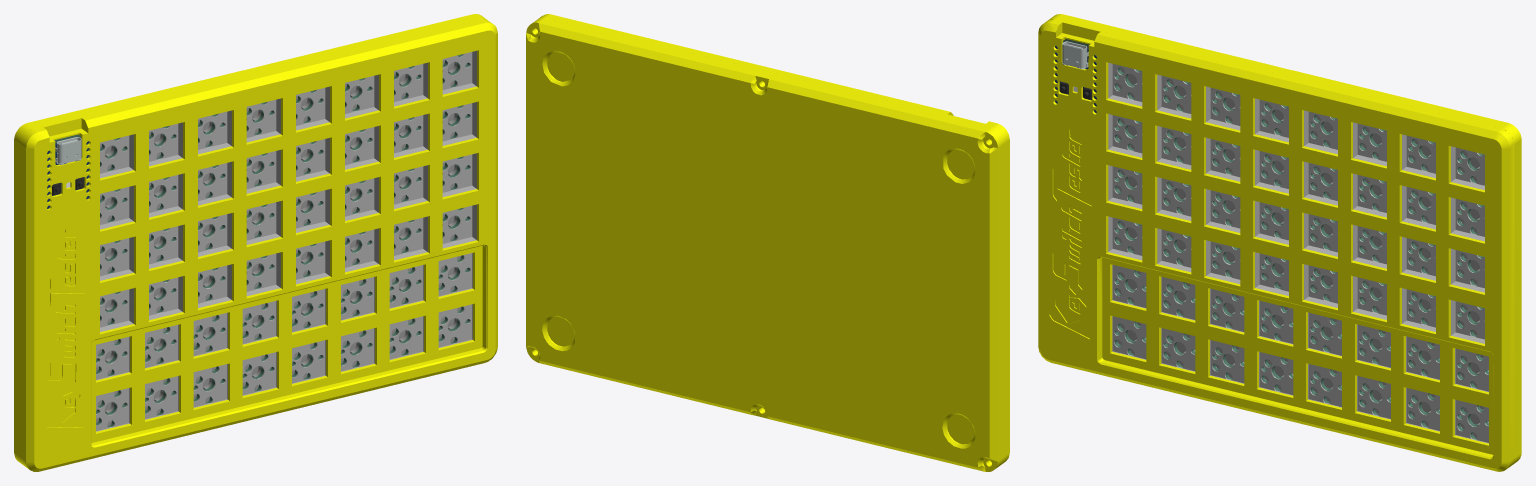
Rendered from tester_mx.glb.
3 renders of one model, left to right at view 1: azimuth 30°, elevation 25°; view 2: azimuth 150°, elevation 25°; view 3: azimuth 330°, elevation 25°, orthographic.
Visible parts, largest first — view 1: case_top, form_middle, pcb, form_bottom, case_bottom, Solid_71; view 2: case_bottom, case_top; view 3: case_top, form_middle, pcb, form_bottom, case_bottom, Solid_71.
Boxes of the visible parts, x1,y1,x2,y2 form: case_top: (21,19,497,471); form_middle: (89,50,476,431); pcb: (54,54,469,427); form_bottom: (96,60,467,426); case_bottom: (14,14,487,465); Solid_71: (55,137,81,164); case_bottom: (526,17,1005,471); case_top: (540,14,1009,463); case_top: (1038,19,1514,471); form_middle: (1108,62,1488,443); pcb: (1063,39,1488,439); form_bottom: (1117,67,1488,437); case_bottom: (1048,14,1521,465); Solid_71: (1062,41,1088,69).
Size of the model in its own units: 183 by 126 by 13.94.
